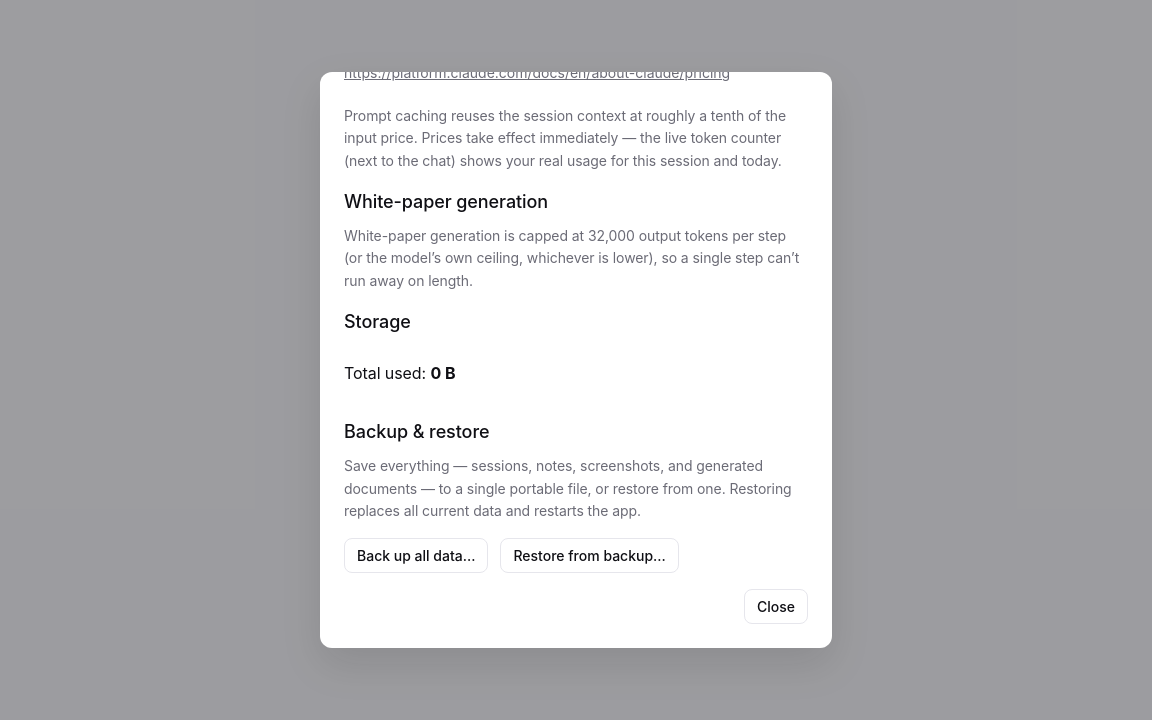
Test: SettingsModal — backup/restore (M06.C) › Restore surfaces a clear message for an invalid (non-backup) file
(page scrolled)
What coordinates should you click on to do the following:
click the button "Restore from backup…"
I would click on:
 (590, 556)
Its box is [500, 538, 679, 573].
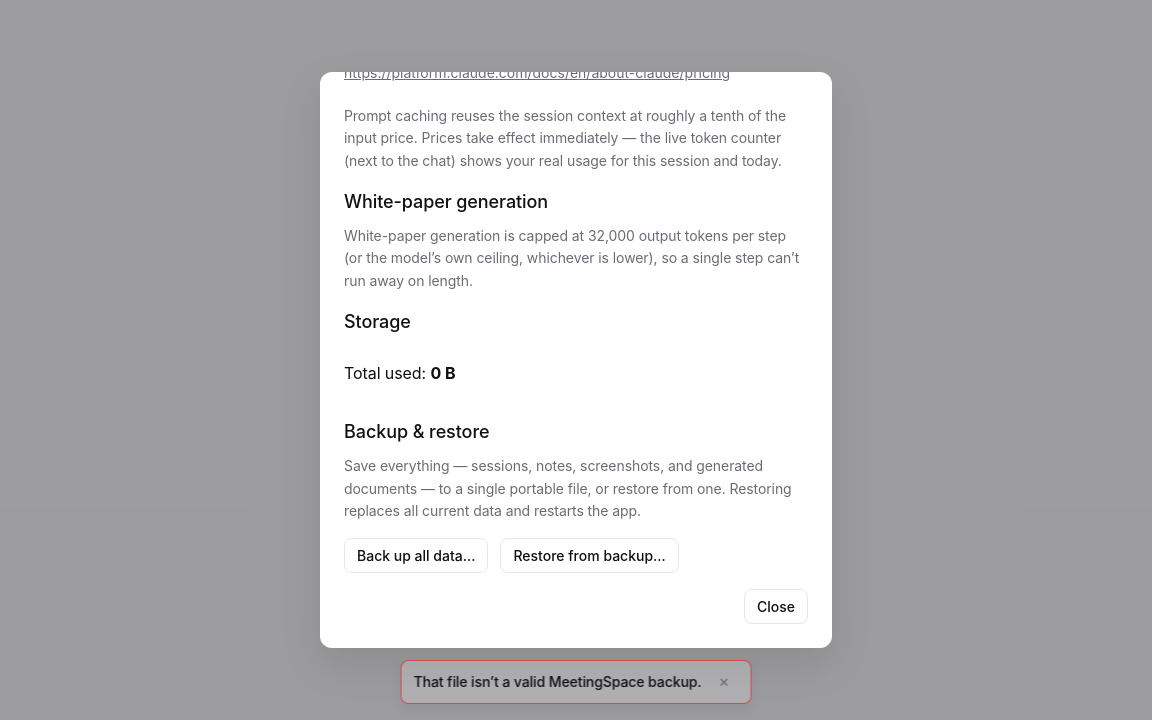
Now the text "That file isn’t a valid MeetingSpace backup." is shown, box [414, 671, 702, 693]
